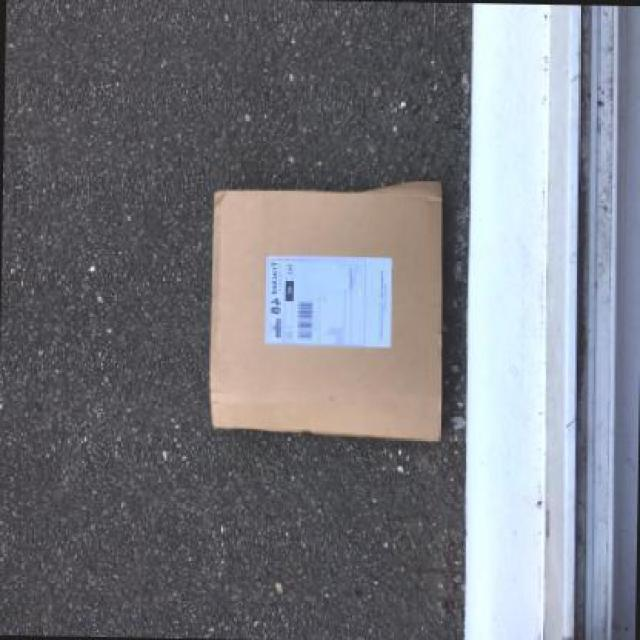box: (211, 184, 443, 440)
